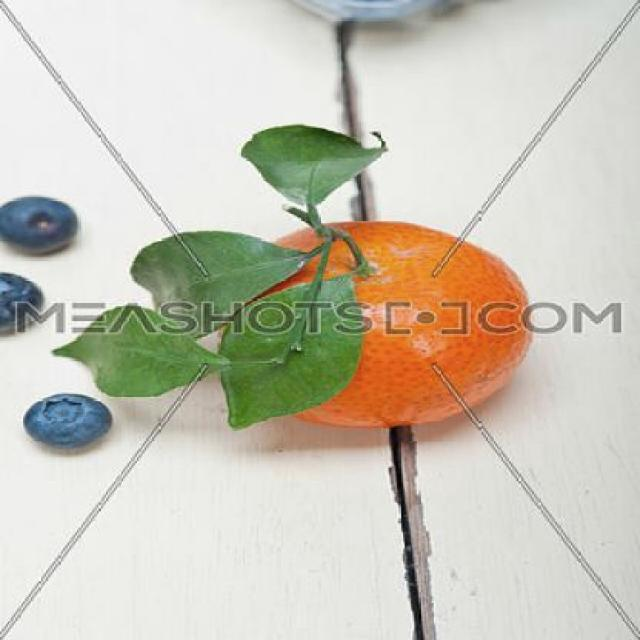Jeruk Sudah Matang: (216, 216, 532, 434)
